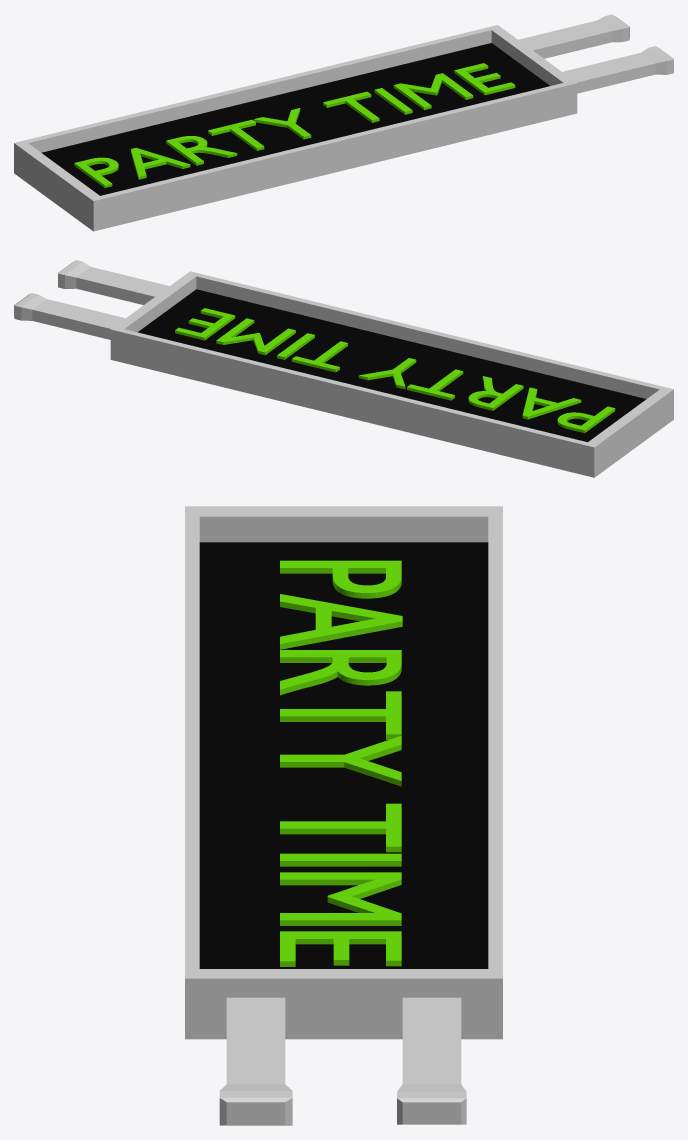
The model's file is neon_space1.fbx.
3 renders of one model, top to bottom at view 1: azimuth 30°, elevation 25°; view 2: azimuth 150°, elevation 25°; view 3: azimuth 270°, elevation 25°, orthographic. The views are drawn at different scales.
Parts seen in each view (by area): view 1: Cube; view 2: Cube; view 3: Cube.
Part boxes in pixels (x1,y1,x2,y2): Cube: [14, 14, 673, 231]; Cube: [14, 260, 673, 477]; Cube: [185, 506, 502, 1125].
Size of the model in its own units: 1025 by 239 by 50.29.
